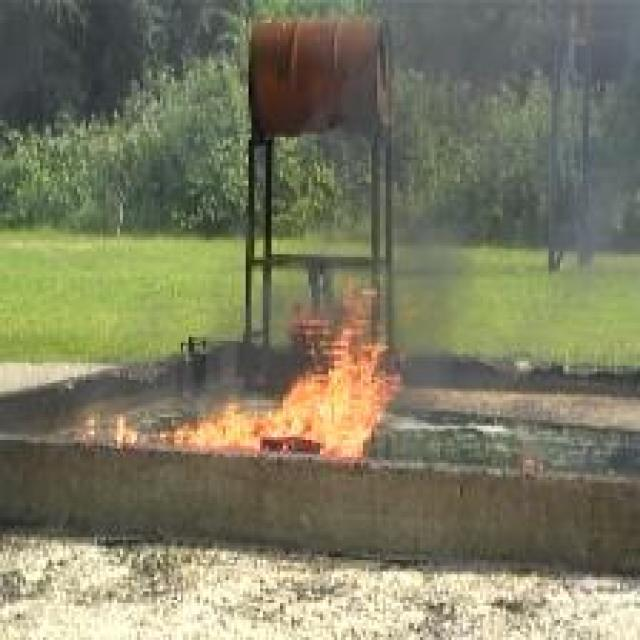Fire: (89, 287, 402, 459)
